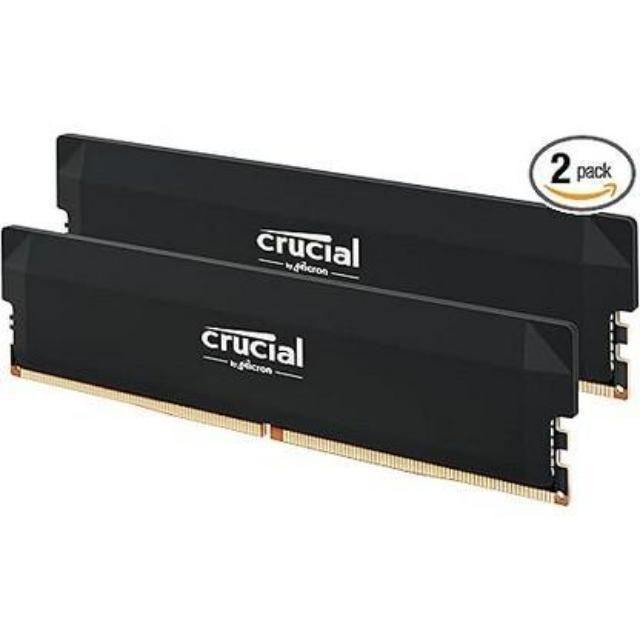RAM: (0, 127, 640, 516)
